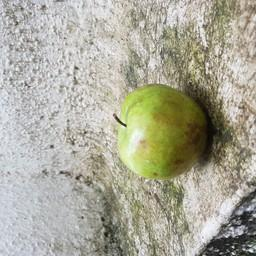Bad_apple: (116, 80, 209, 182)
